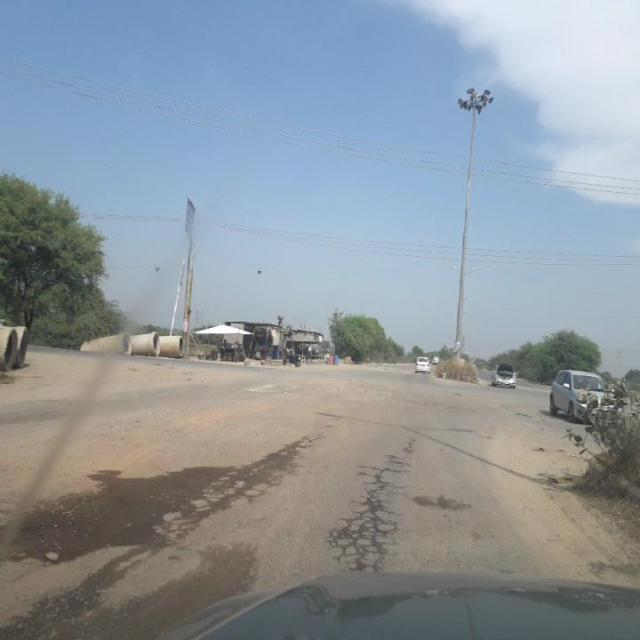D20: (322, 426, 424, 564), (169, 460, 288, 543)
D40: (0, 457, 239, 577)
